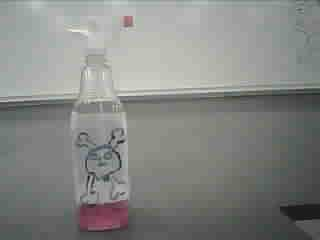hazard: (55, 13, 154, 233)
